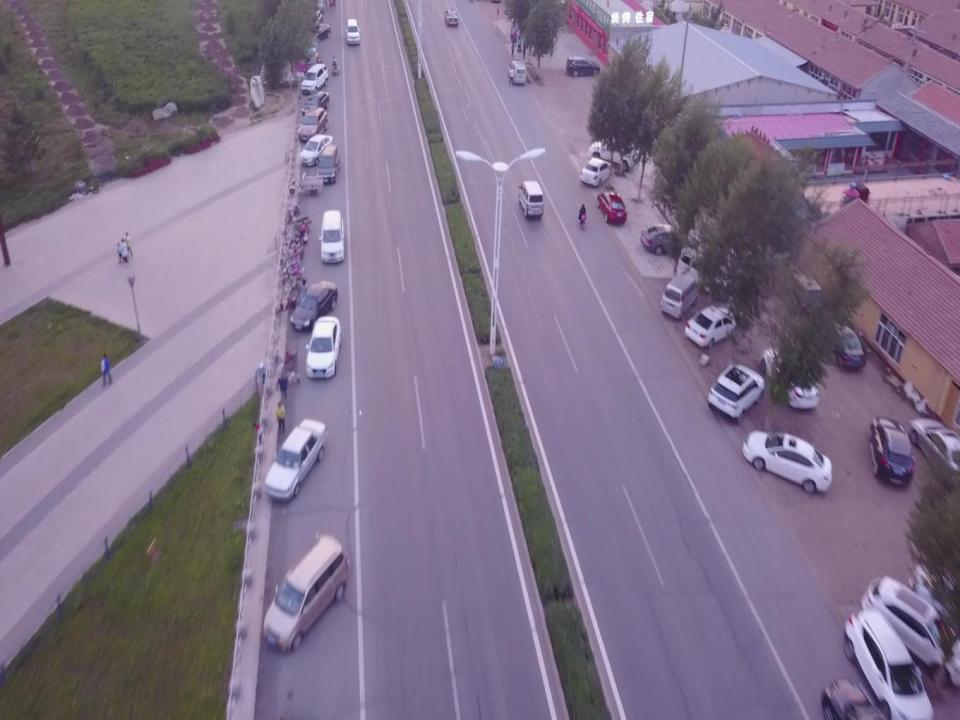car: (844, 606, 939, 720), (260, 533, 349, 654), (862, 576, 960, 684), (743, 427, 832, 494), (265, 417, 327, 502), (908, 416, 960, 514), (760, 341, 820, 409), (705, 360, 765, 423), (870, 417, 917, 486), (820, 675, 892, 720), (812, 315, 865, 371), (288, 280, 338, 330), (305, 314, 341, 380), (684, 306, 736, 348), (640, 220, 698, 257), (587, 136, 638, 170), (297, 106, 330, 142), (596, 190, 629, 226), (299, 134, 334, 166), (516, 180, 544, 219), (580, 156, 612, 188), (299, 64, 328, 94), (300, 89, 330, 116), (565, 56, 601, 77), (297, 8, 324, 35), (303, 21, 330, 45), (345, 17, 361, 45), (302, 52, 320, 73), (443, 8, 459, 26)
van: (676, 246, 738, 298), (659, 274, 698, 320), (318, 209, 344, 263), (315, 143, 341, 185), (511, 59, 526, 87)
